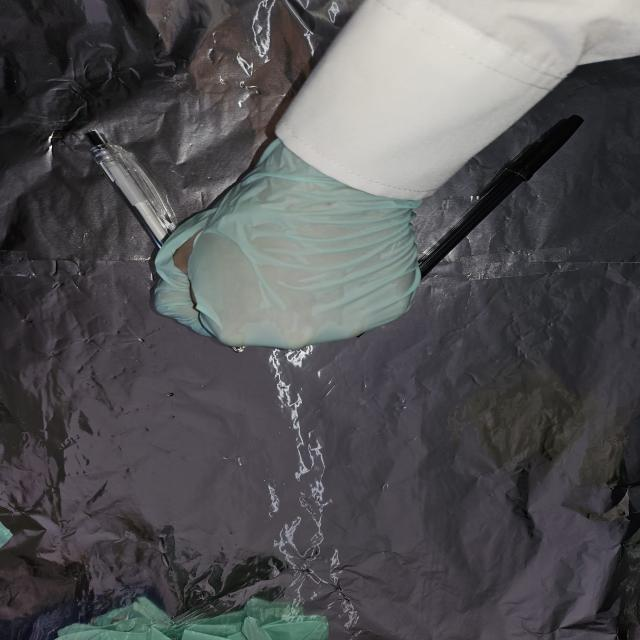gloves_damaged: (148, 126, 425, 349)
